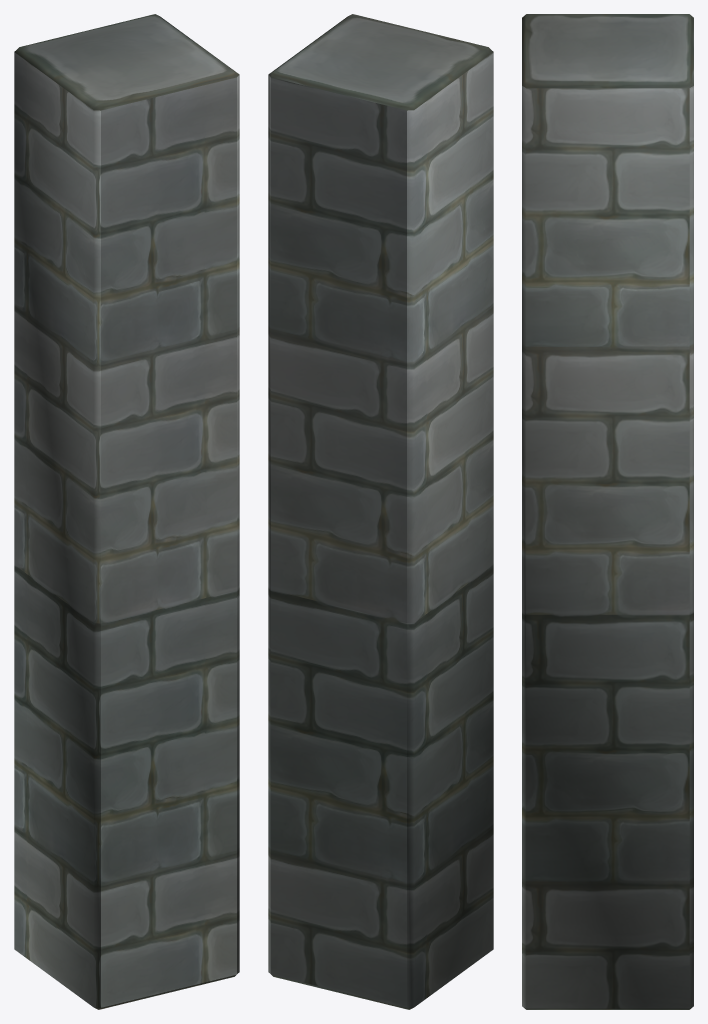
The model's file is wallCorner.FBX.
3 renders of one model, left to right at view 1: azimuth 30°, elevation 25°; view 2: azimuth 150°, elevation 25°; view 3: azimuth 270°, elevation 25°, orthographic. The views are drawn at different scales.
Parts seen in each view (by area): view 1: wall_Corner; view 2: wall_Corner; view 3: wall_Corner.
Part boxes in pixels (bbox=[...]): wall_Corner: bbox=[14, 14, 239, 1009]; wall_Corner: bbox=[268, 14, 493, 1009]; wall_Corner: bbox=[522, 14, 693, 1009].
Size of the model in its own units: 33.32 by 197 by 33.13.
1 material, 1 textured.
